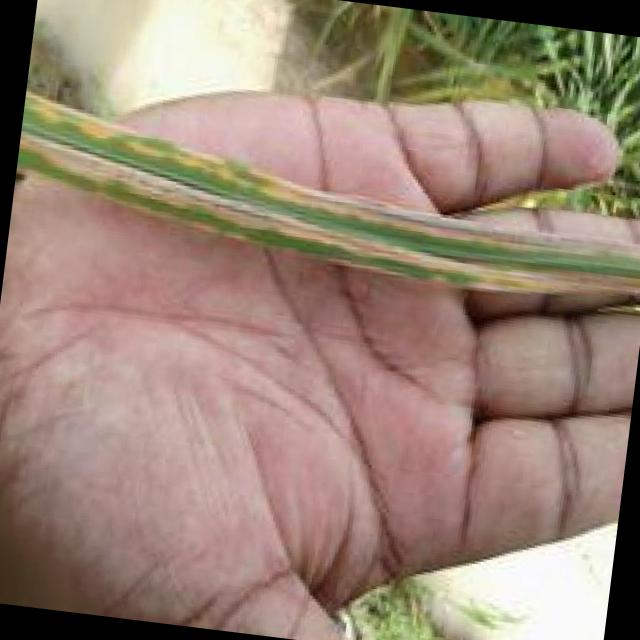Rice_Bacterial_Blight: (23, 81, 640, 307)
